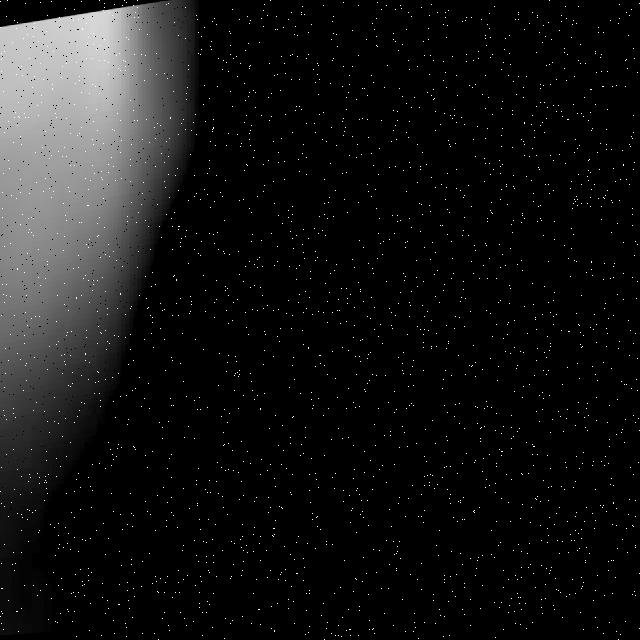person: (1, 1, 259, 527)
